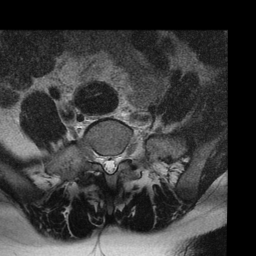CCS_normal: (106, 148, 113, 180)
LFS_normal: (117, 143, 125, 169)
LLS_normal: (113, 147, 119, 176)
RFS_normal: (93, 144, 100, 170)
RLS_normal: (100, 147, 106, 177)
